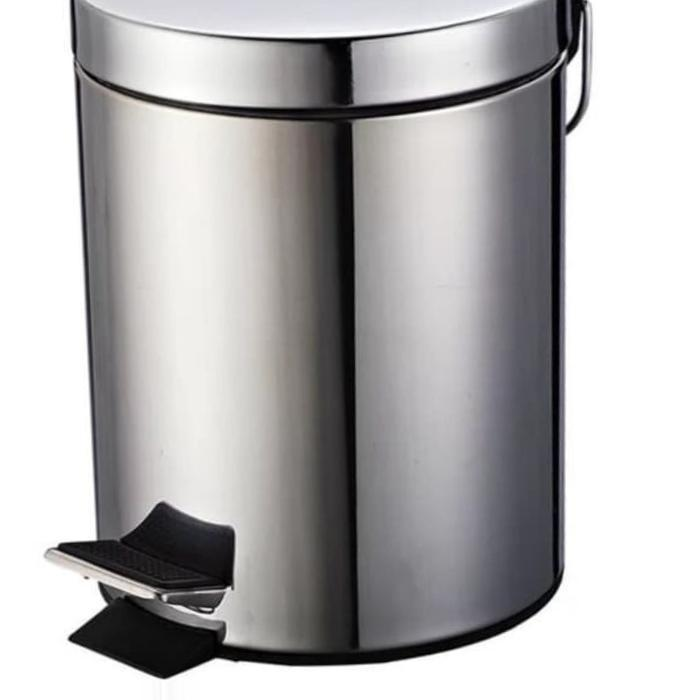Bote de Basura: (61, 0, 578, 675)
